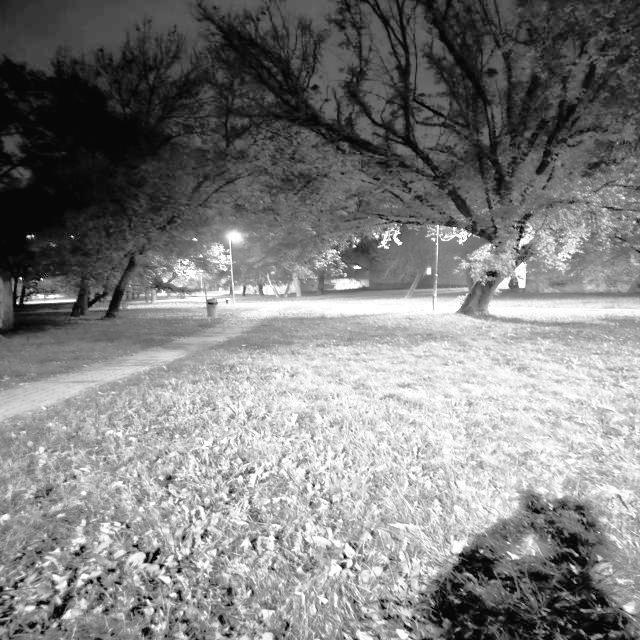Light: (227, 233, 238, 303)
Tree: (394, 27, 605, 324)
